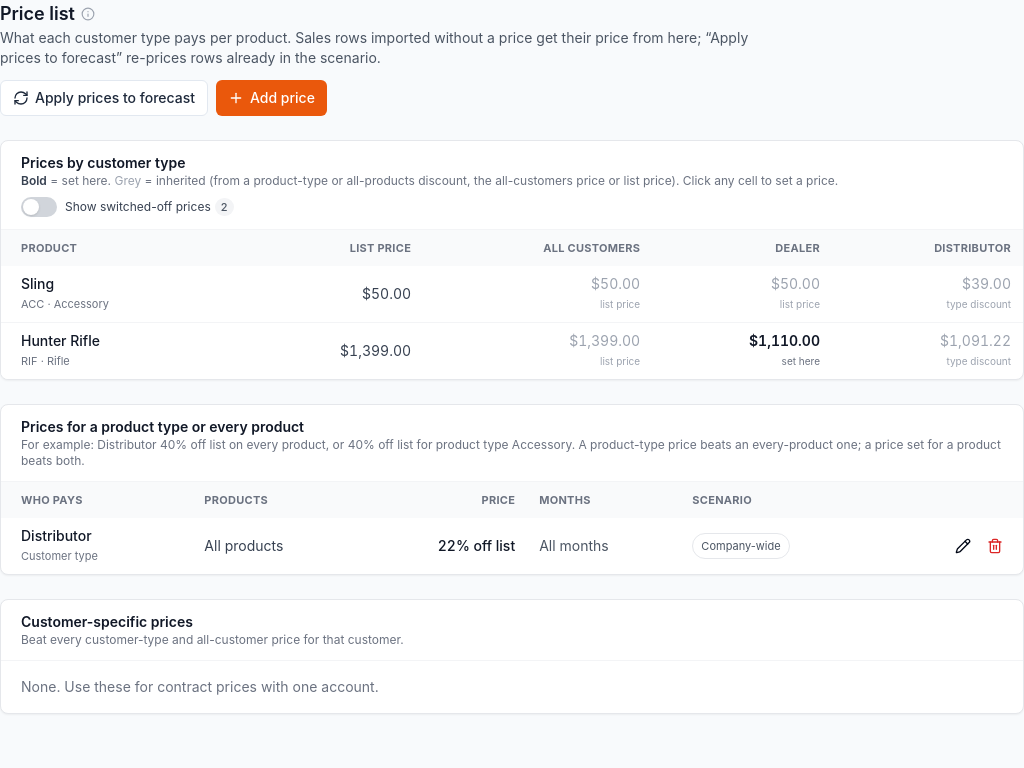
Test: PriceListTab › keeps switched-off prices out of the way but one click from view
Expected: the text "Show switched-off prices" shows "2", [221,200,228,214]
Expected: the text "None. Use these for contract prices with one account." is shown, [21,678,379,695]
Click the switch named "Show switched-off prices". click: (39, 207)
box: [21,197,57,217]
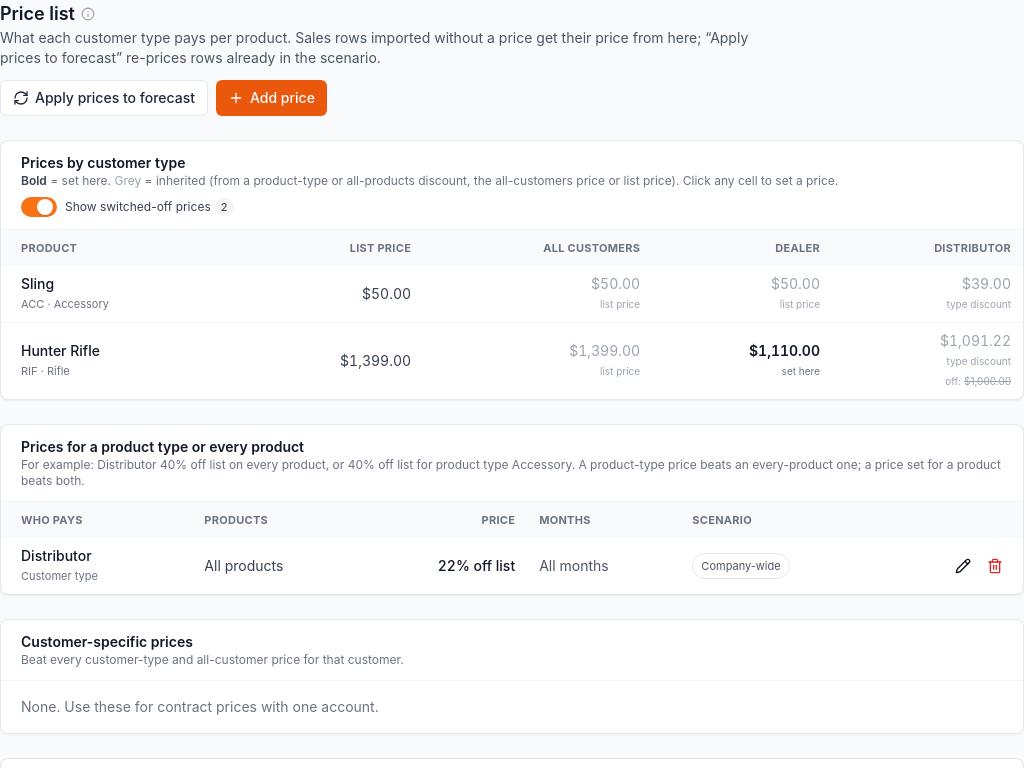
Expected: the element with test id "cell-switched-off" reads "off: $1,000.00", [945,371,1011,391]
Click the button titled "$1,000.00 is set here but switched off". click: (928, 361)
box: [836,327,1019,395]
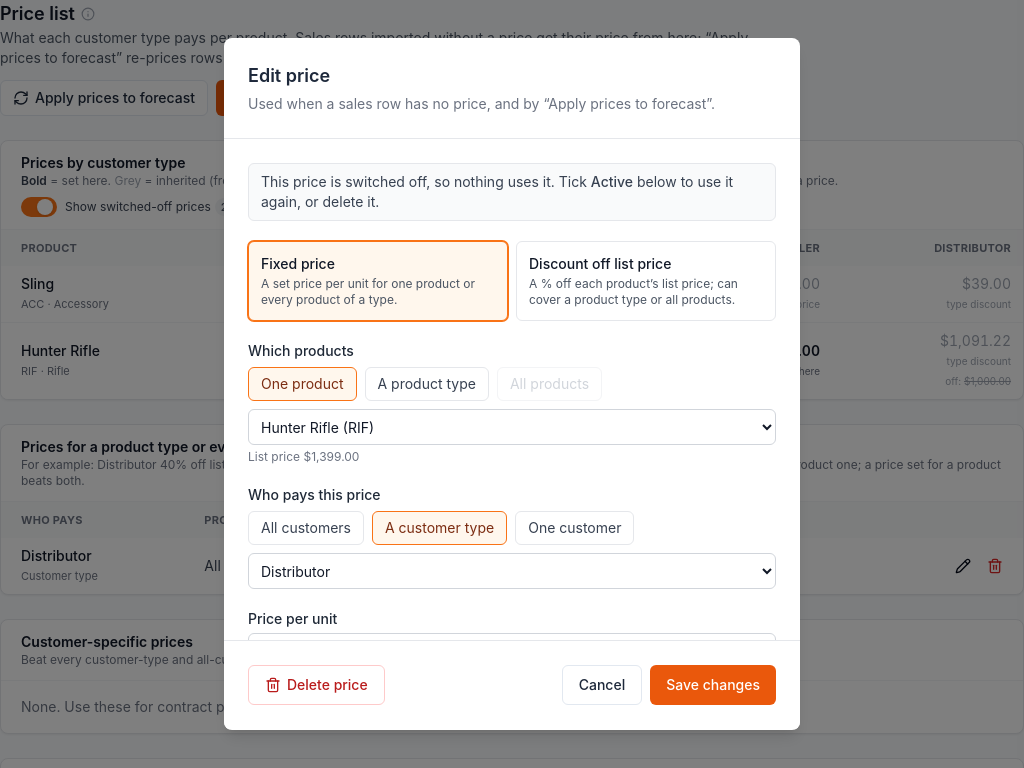
Expected: the heading "Edit price" is shown, [248,65,330,86]
Expected: the element with test id "price-switched-off" is shown, [248,163,776,221]
